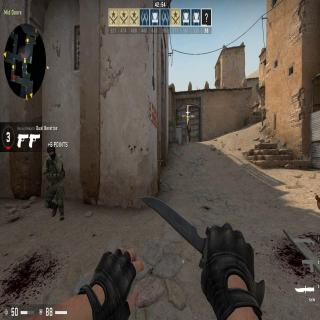CT-Body: (42, 144, 66, 221)
CT-Head: (46, 146, 56, 158)
